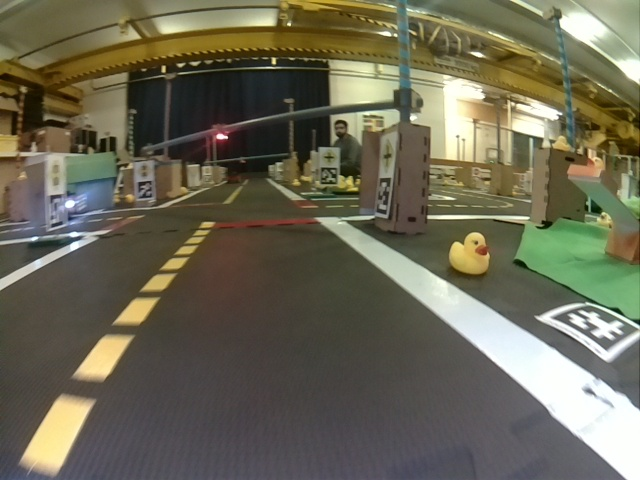Duckie: (449, 232, 491, 275)
Intersection sign: (379, 138, 395, 174), (321, 149, 337, 166)
QR code: (542, 303, 638, 360), (374, 182, 391, 218), (46, 197, 64, 228), (319, 168, 337, 185), (135, 183, 152, 200)
Signal sign: (134, 162, 154, 179)
Traffic light: (215, 124, 228, 140)
